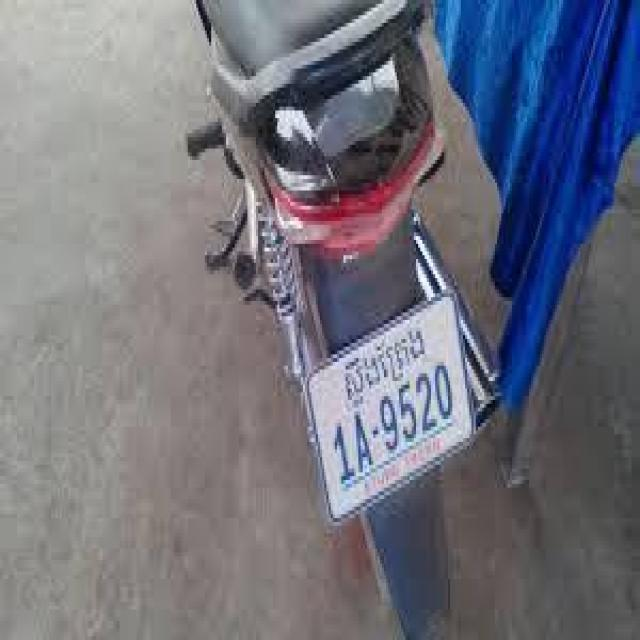Stung_Treng: (346, 324, 430, 405)
